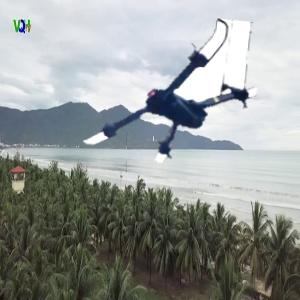drone: (81, 15, 258, 192)
